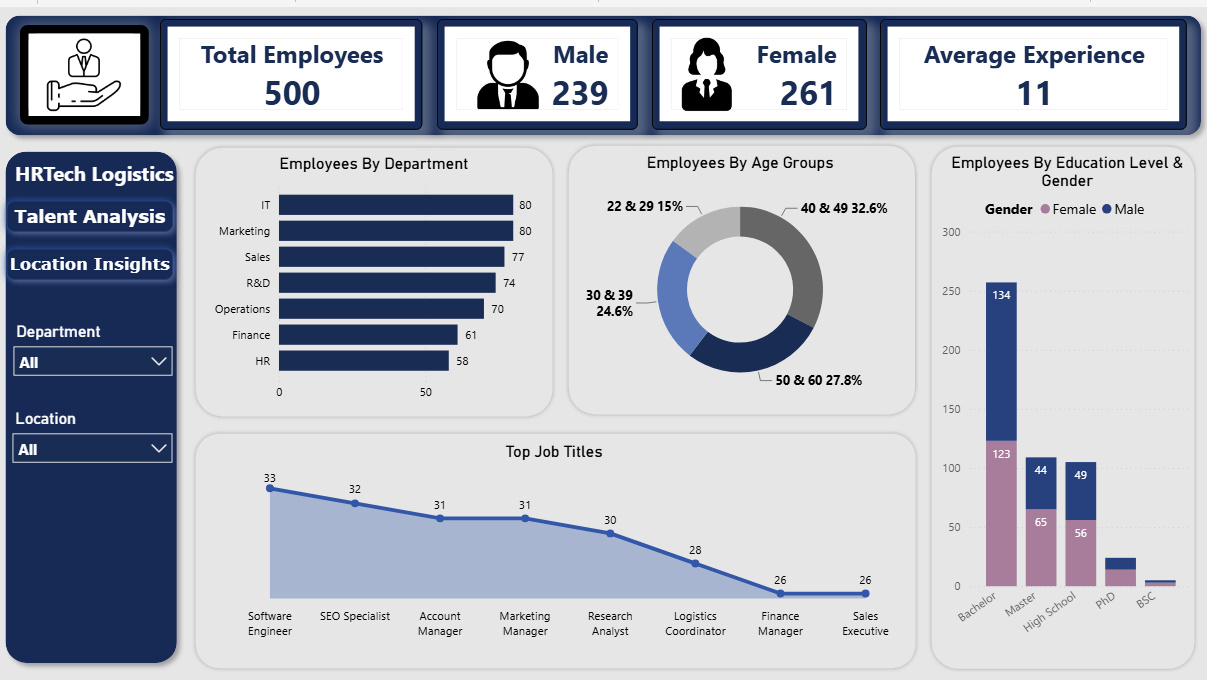

What the dashboard file says about the page in this screenshot:
{"tool":"powerbi","page":{"name":"hierach","canvas":[1280,720],"ordinal":0},"visuals":[{"type":"shape","box":[0,143.9,198.9,558],"z":0},{"type":"shape","box":[600,143.1,373.6,291.7],"z":1000},{"type":"shape","box":[0,0,1280.6,144.4],"z":2000},{"type":"shape","box":[205.6,144.4,384.7,291.7],"z":3000},{"type":"shape","box":[205.6,447.2,768.1,255.6],"z":4000},{"type":"shape","box":[983.5,143.9,285.3,559.3],"z":5000},{"type":"cardVisual","fields":{"Data":["Employees.Total Employees"]},"box":[464.3,13.1,212.2,116.7],"z":6000},{"type":"cardVisual","fields":{"Data":["Employees.Total Employees"]},"box":[691.2,13.1,226.7,116.7],"z":7000},{"type":"cardVisual","fields":{"Data":["Employees.Total Employees"]},"box":[172.2,13.1,277.3,116.8],"z":8000},{"type":"clusteredBarChart","title":" Employees By Department","fields":{"Category":["Employees.Department"],"Y":["Employees.Total Employees"]},"box":[219.4,155.6,356.9,269.4],"z":9000},{"type":"donutChart","title":" Employees By Age Groups","fields":{"Category":["Employees.Age (groups)"],"Y":["Employees.Total Employees"]},"box":[612.5,154.2,344.4,269.4],"z":10000},{"type":"columnChart","title":" Employees By Education Level & Gender","fields":{"Category":["Employees.Education Level"],"Y":["Employees.Total Employees"],"Series":["Employees.Gender"]},"box":[993.1,154.2,275,529.2],"z":11000},{"type":"lineChart","title":"Top Job Titles","fields":{"Category":["Employees.Job Title"],"Y":["Employees.Total Employees"]},"box":[212.7,459.2,752,215.2],"z":12000},{"type":"image","box":[698.6,31.9,102.8,79.2],"z":13000},{"type":"image","box":[493.1,30.6,93.1,81.9],"z":14000},{"type":"image","box":[24.8,19,135.7,105.1],"z":15000},{"type":"textbox","box":[6.3,155.2,192.7,40],"z":16000},{"type":"shape","box":[1.3,195.2,193.9,51.3],"z":17000},{"type":"shape","box":[1.3,246.5,193.9,51.3],"z":18000},{"type":"slicer","fields":{"Values":["Employees.Department"]},"box":[7.5,327.8,187.7,77.6],"z":19000},{"type":"slicer","fields":{"Values":["Employees.Location"]},"box":[6.3,419.2,188.9,71.3],"z":20000},{"type":"cardVisual","fields":{"Data":["Employees.Average Experience"]},"box":[932.6,13.1,324,116.8],"z":21000}]}

Visuals, with their boxes in screenshot pixels (x1, y1, x2, y2), scaled from the page's 1280x720 canvas onto the 1207x680 screenshot:
shape: <region>0, 136, 188, 663</region>
shape: <region>566, 135, 918, 411</region>
shape: <region>0, 0, 1206, 136</region>
shape: <region>194, 136, 557, 412</region>
shape: <region>194, 422, 918, 664</region>
shape: <region>927, 136, 1196, 664</region>
cardVisual - Employees.Total Employees: <region>438, 12, 638, 123</region>
cardVisual - Employees.Total Employees: <region>652, 12, 866, 123</region>
cardVisual - Employees.Total Employees: <region>162, 12, 424, 123</region>
" Employees By Department" clusteredBarChart: <region>207, 147, 543, 401</region>
" Employees By Age Groups" donutChart: <region>578, 146, 902, 400</region>
" Employees By Education Level & Gender" columnChart: <region>936, 146, 1196, 645</region>
"Top Job Titles" lineChart: <region>201, 434, 910, 637</region>
image: <region>659, 30, 756, 105</region>
image: <region>465, 29, 553, 106</region>
image: <region>23, 18, 151, 117</region>
textbox: <region>6, 147, 188, 184</region>
shape: <region>1, 184, 184, 233</region>
shape: <region>1, 233, 184, 281</region>
slicer - Employees.Department: <region>7, 310, 184, 383</region>
slicer - Employees.Location: <region>6, 396, 184, 463</region>
cardVisual - Employees.Average Experience: <region>879, 12, 1185, 123</region>
